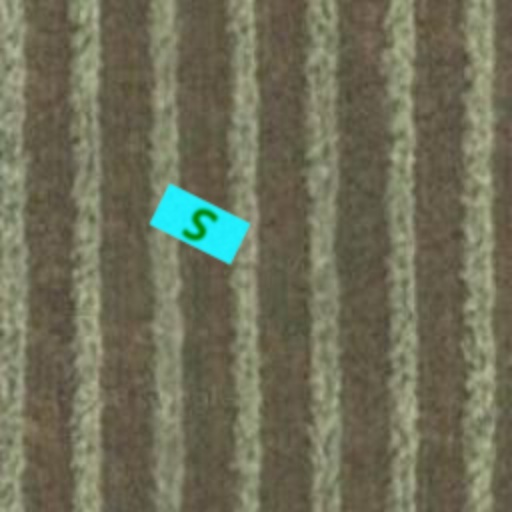rectangle: (138, 162, 262, 286)
